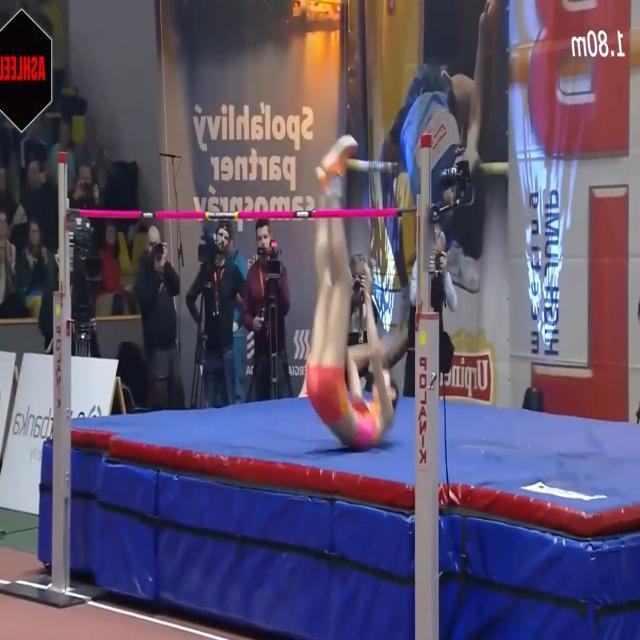land: (306, 128, 399, 446)
